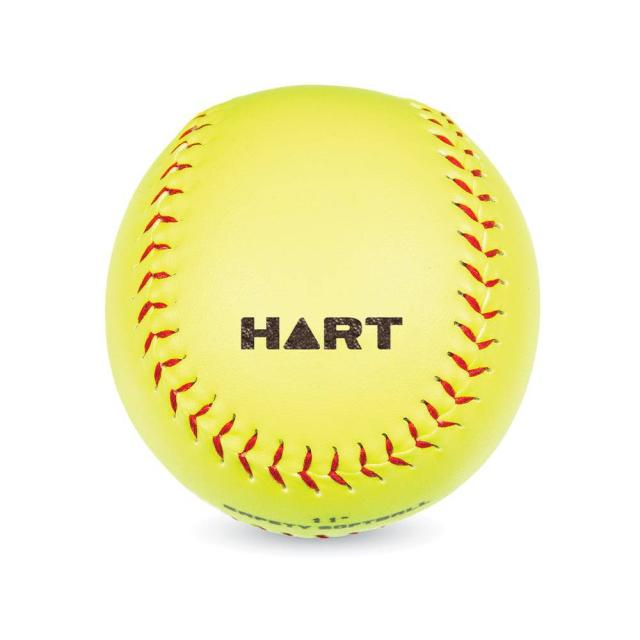softball ball: (107, 86, 540, 537)
